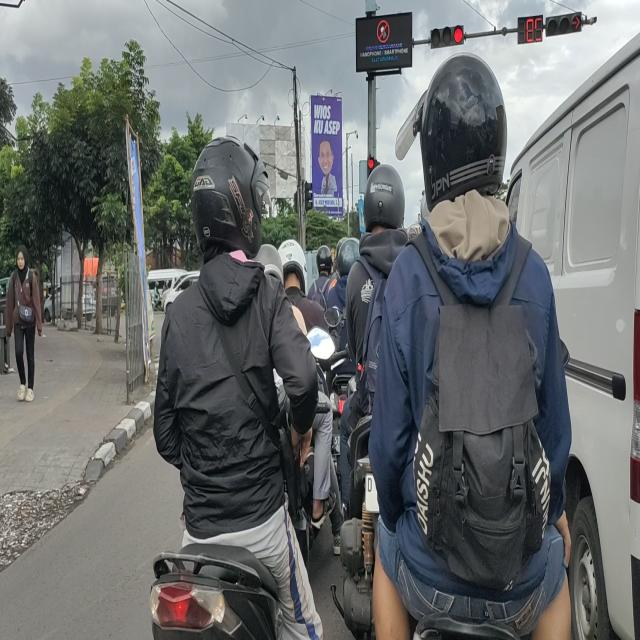helmet: (422, 50, 507, 205), (194, 134, 264, 247), (364, 161, 406, 235), (279, 240, 309, 300), (336, 237, 361, 278), (258, 242, 282, 279), (316, 246, 335, 284)
